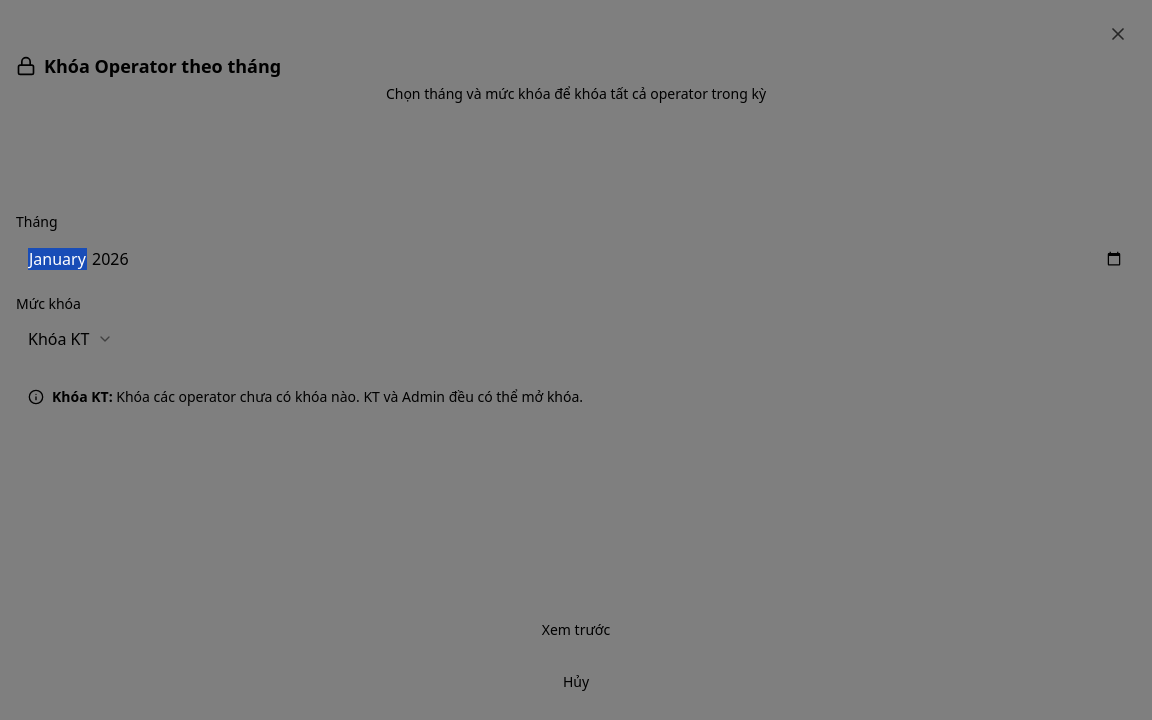
it: OperatorLockDialog › Role-based Tiers › shows only KT tier for ACCOUNTANT role
Open select dropdown
Click the dropdown named "Mức khóa": (71, 339) [16, 319, 125, 359]
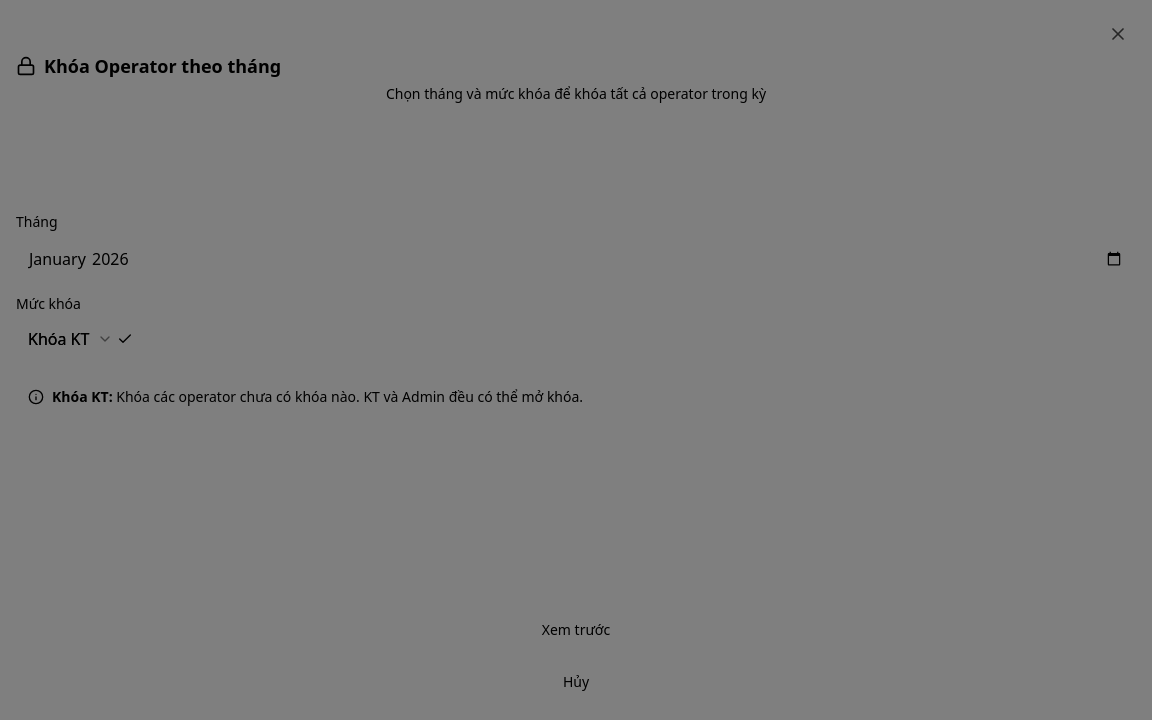
Expected: the number of options is 1, [28, 328, 133, 350]
Expected: the option reads "Khóa KT", [28, 328, 133, 350]
